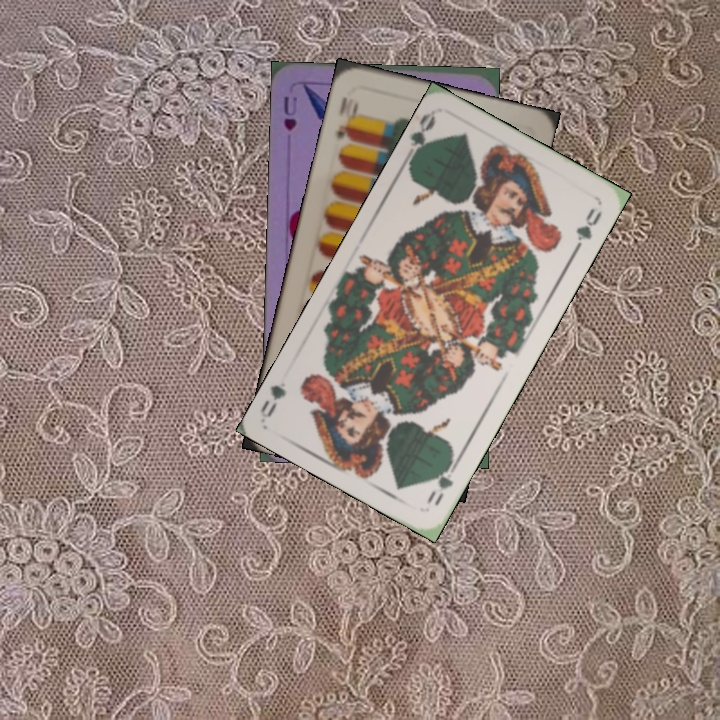E10: (332, 93, 361, 144)
GO: (422, 454, 462, 509), (400, 109, 438, 165)
HU: (280, 92, 299, 133)
